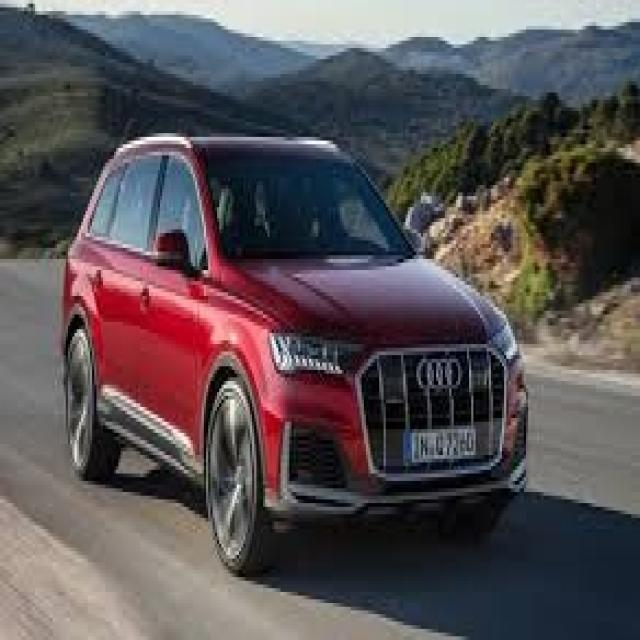red: (50, 132, 520, 564)
